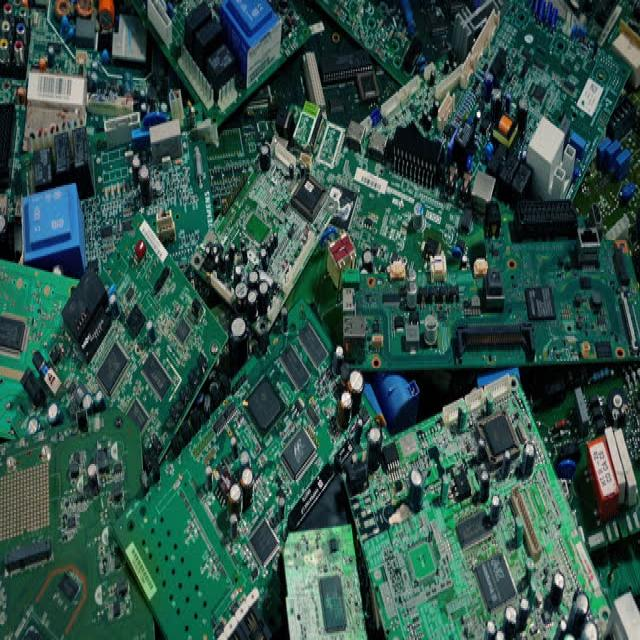metal: (98, 96, 576, 608)
